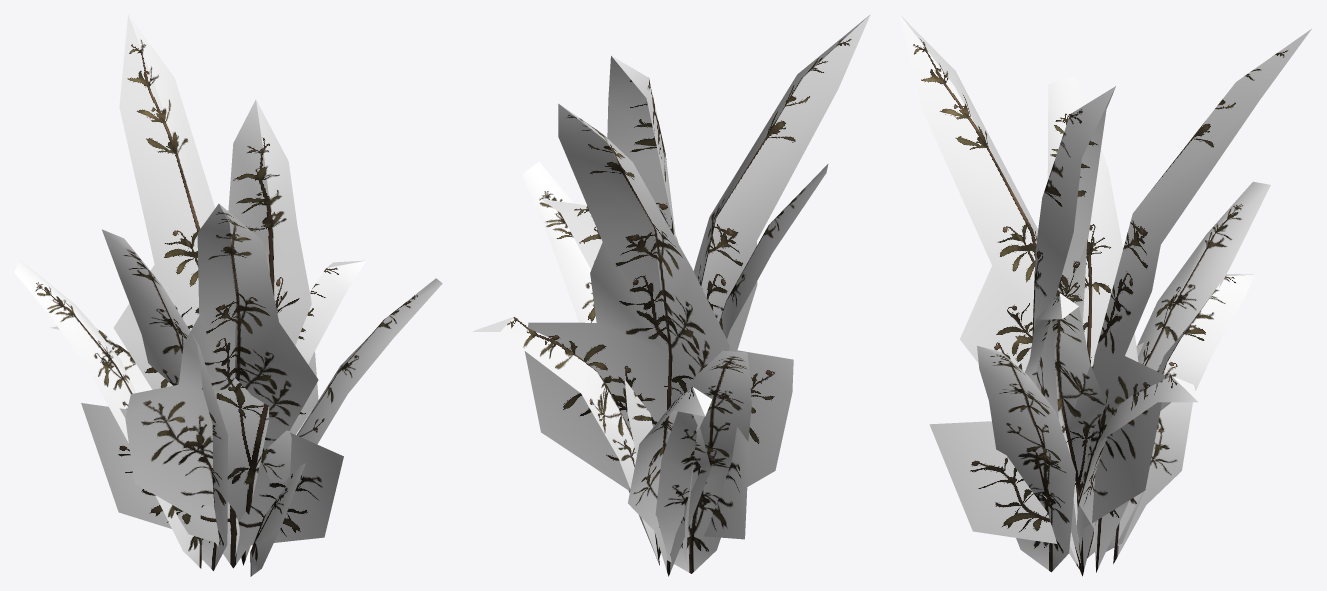
Rendered from Plant_4.fbx.
3 views of the same model, side by side, from view 1: azimuth 30°, elevation 25°; view 2: azimuth 150°, elevation 25°; view 3: azimuth 270°, elevation 25° (orthographic). The views are drawn at different scales.
Parts seen in each view (by area): view 1: Plant_4; view 2: Plant_4; view 3: Plant_4.
Part boxes in pixels (x1,y1,x2,y2): Plant_4: (14,14,442,576); Plant_4: (472,14,870,576); Plant_4: (899,14,1311,576).
Bounding box in the file's own units: 58.82 × 86.99 × 60.14.
